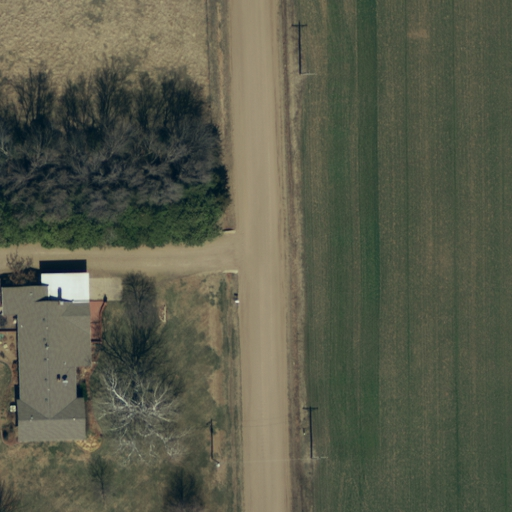DT: (293, 61, 321, 85), (306, 446, 332, 469), (205, 451, 228, 474)
